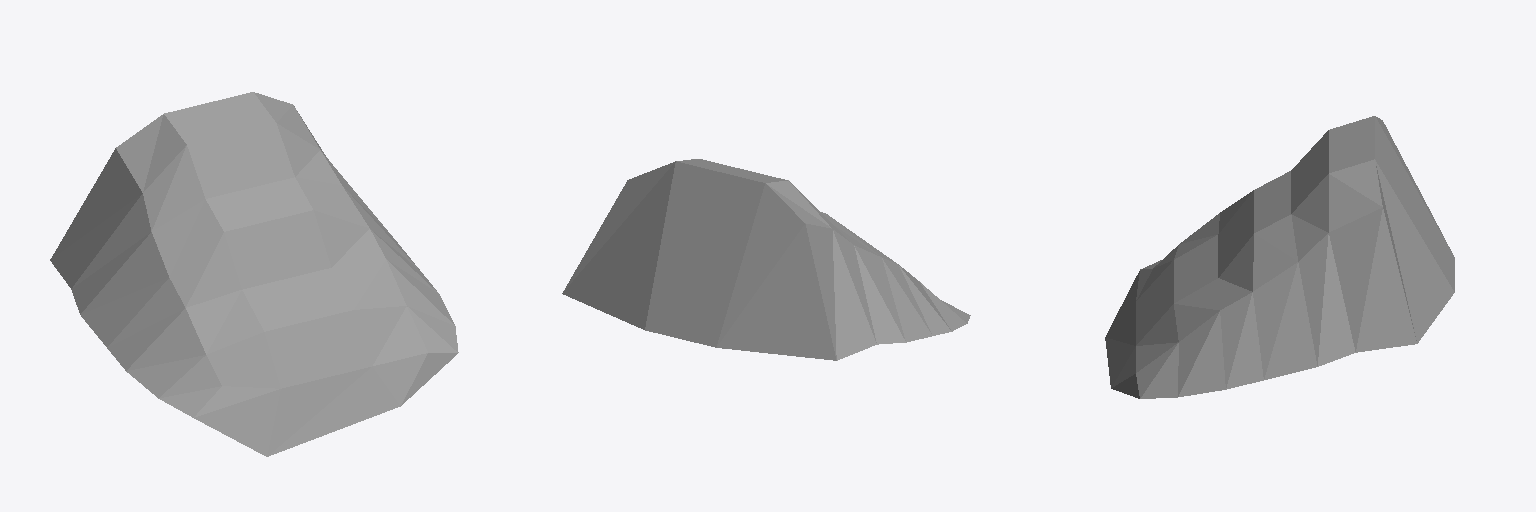
File: Hut_Steps.obj
The picture shows the model from 3 angles: view 1: azimuth 30°, elevation 25°; view 2: azimuth 150°, elevation 25°; view 3: azimuth 270°, elevation 25°; orthographic projection.
Parts seen in each view (by area): view 1: Mesh.008_pCube12; view 2: Mesh.008_pCube12; view 3: Mesh.008_pCube12.
Part boxes in pixels (left/top/right/bottom): Mesh.008_pCube12: left=50, top=92, right=458, bottom=456; Mesh.008_pCube12: left=562, top=159, right=970, bottom=360; Mesh.008_pCube12: left=1105, top=116, right=1454, bottom=398.
Bounding box in the file's own units: 146 × 106 × 141.